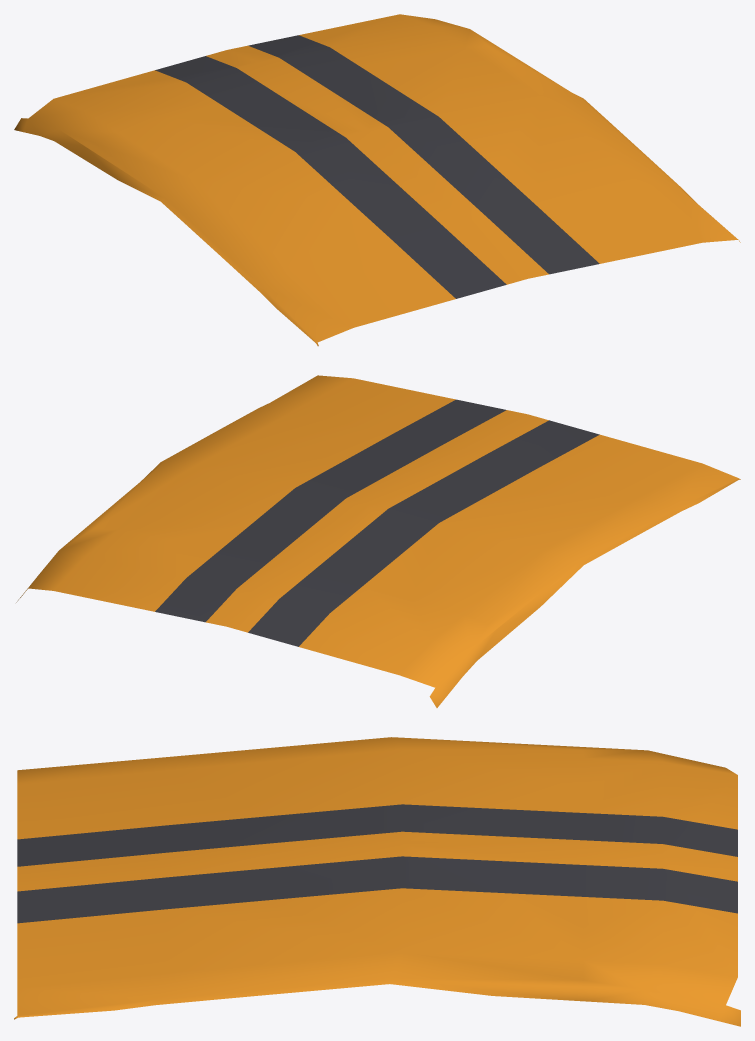
The model's file is protoCompact_roof_tsubame.glb.
The picture shows the model from 3 angles, top to bottom: view 1: azimuth 30°, elevation 25°; view 2: azimuth 150°, elevation 25°; view 3: azimuth 270°, elevation 25°; orthographic projection. The views are drawn at different scales.
Visible parts, largest first — view 1: roof_tsubame; view 2: roof_tsubame; view 3: roof_tsubame.
Boxes of the visible parts, x1,y1,x2,y2 form: roof_tsubame: (14, 14, 740, 346); roof_tsubame: (16, 375, 740, 707); roof_tsubame: (14, 737, 740, 1026).
Size of the model in its own units: 1 by 0.114 by 1.25.
